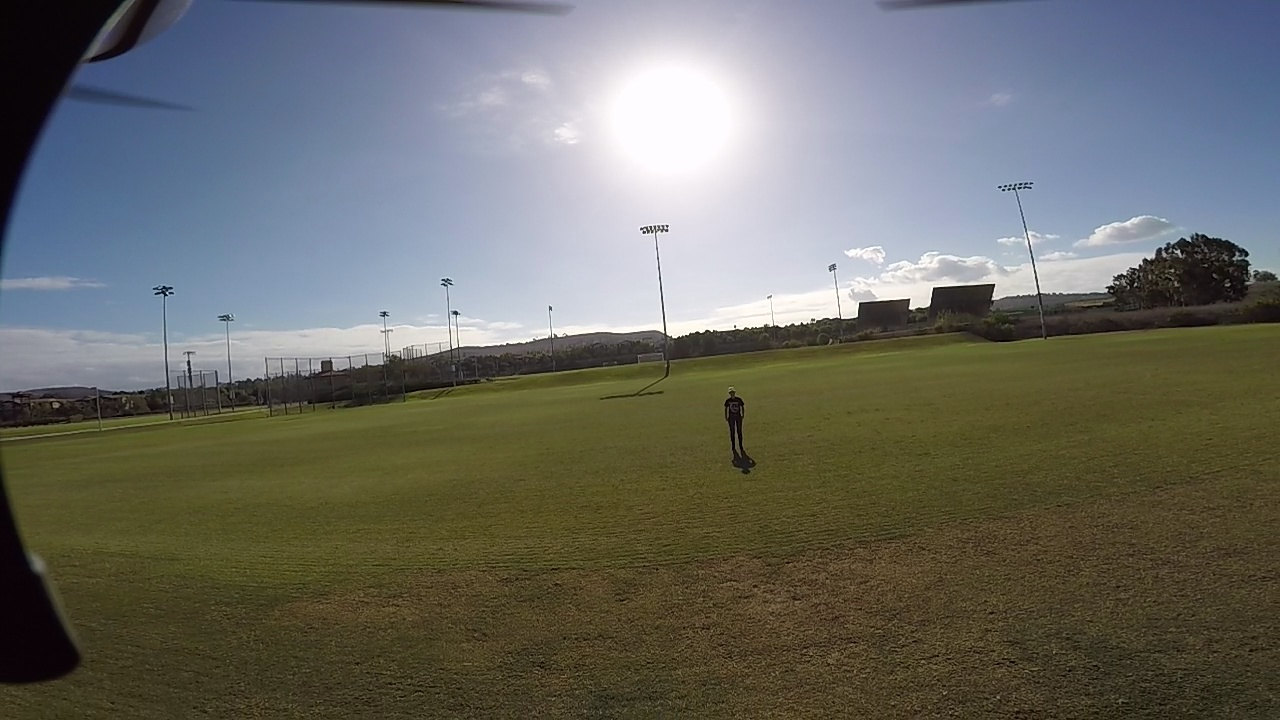person: (720, 382, 749, 468)
